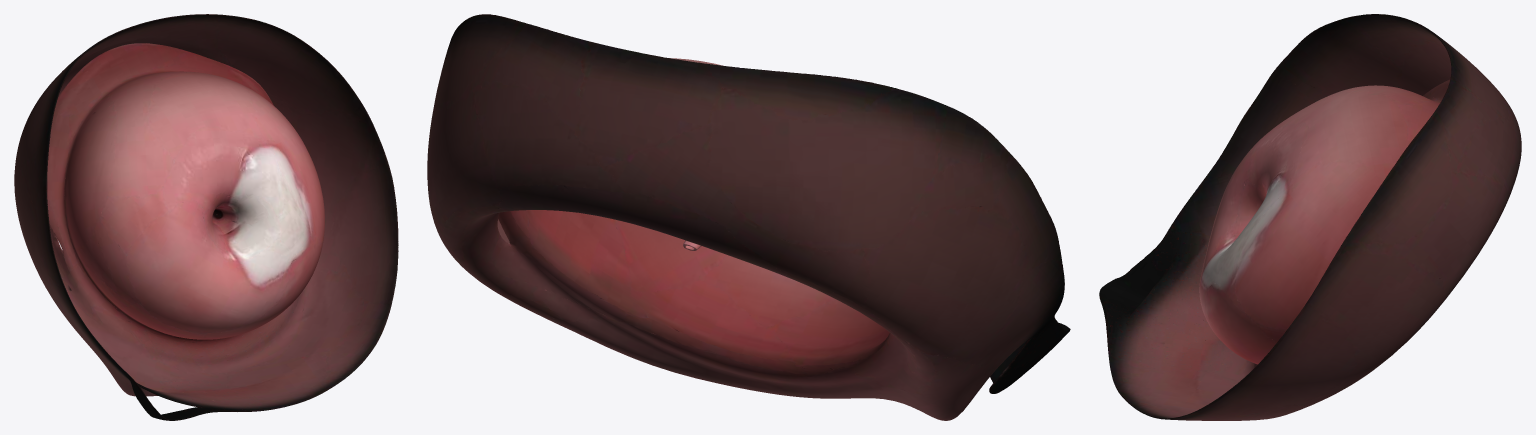
3 views of the same model, side by side, from view 1: azimuth 30°, elevation 25°; view 2: azimuth 150°, elevation 25°; view 3: azimuth 270°, elevation 25° (orthographic). The views are drawn at different scales.
Visible parts, largest first — view 1: node_0; view 2: node_0; view 3: node_0.
Boxes of the visible parts, x1=… form: node_0: x1=14, y1=14, x2=398, y2=420; node_0: x1=427, y1=14, x2=1070, y2=420; node_0: x1=1099, y1=14, x2=1521, y2=420.
Size of the model in its own units: 0.9351 by 0.7143 by 0.8385.
Materials: 1 (1 with a texture image).
